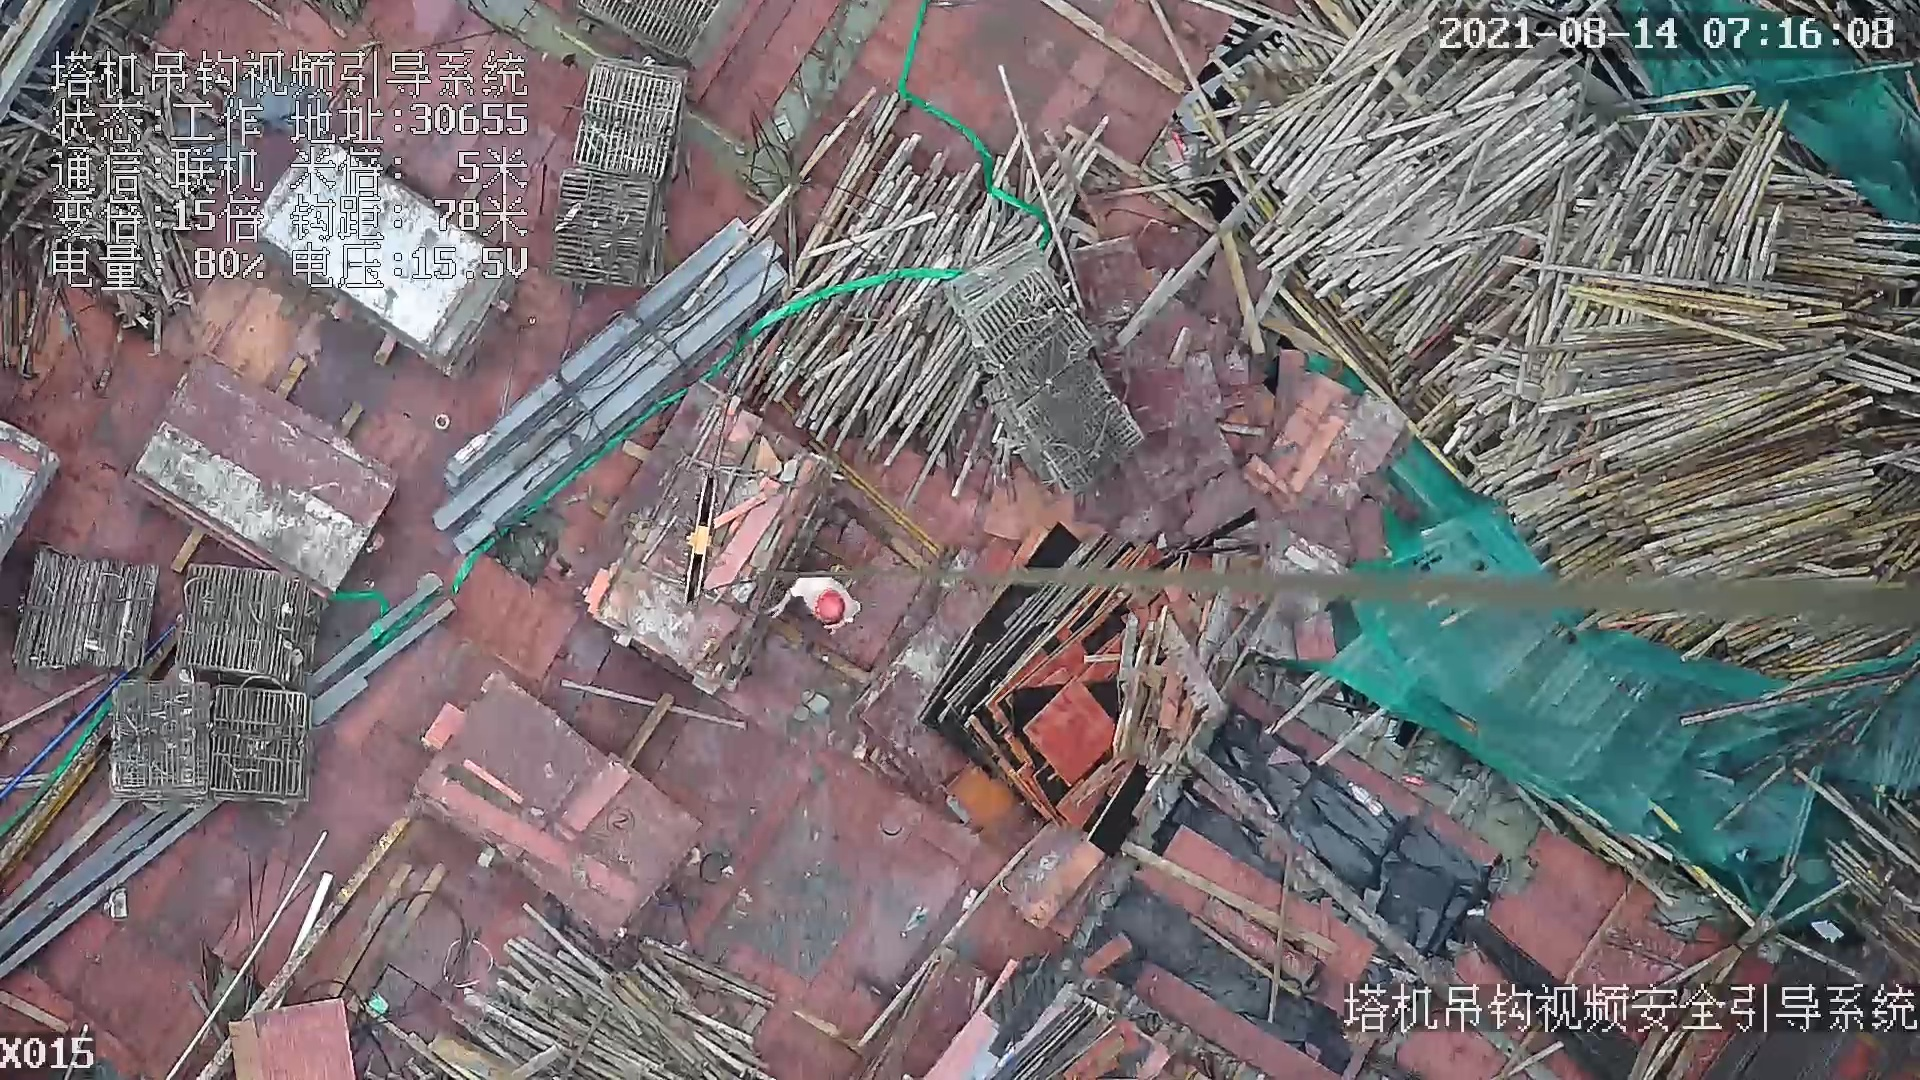helmet: (811, 587, 848, 624)
hook: (670, 469, 722, 610)
person: (768, 568, 859, 644)
